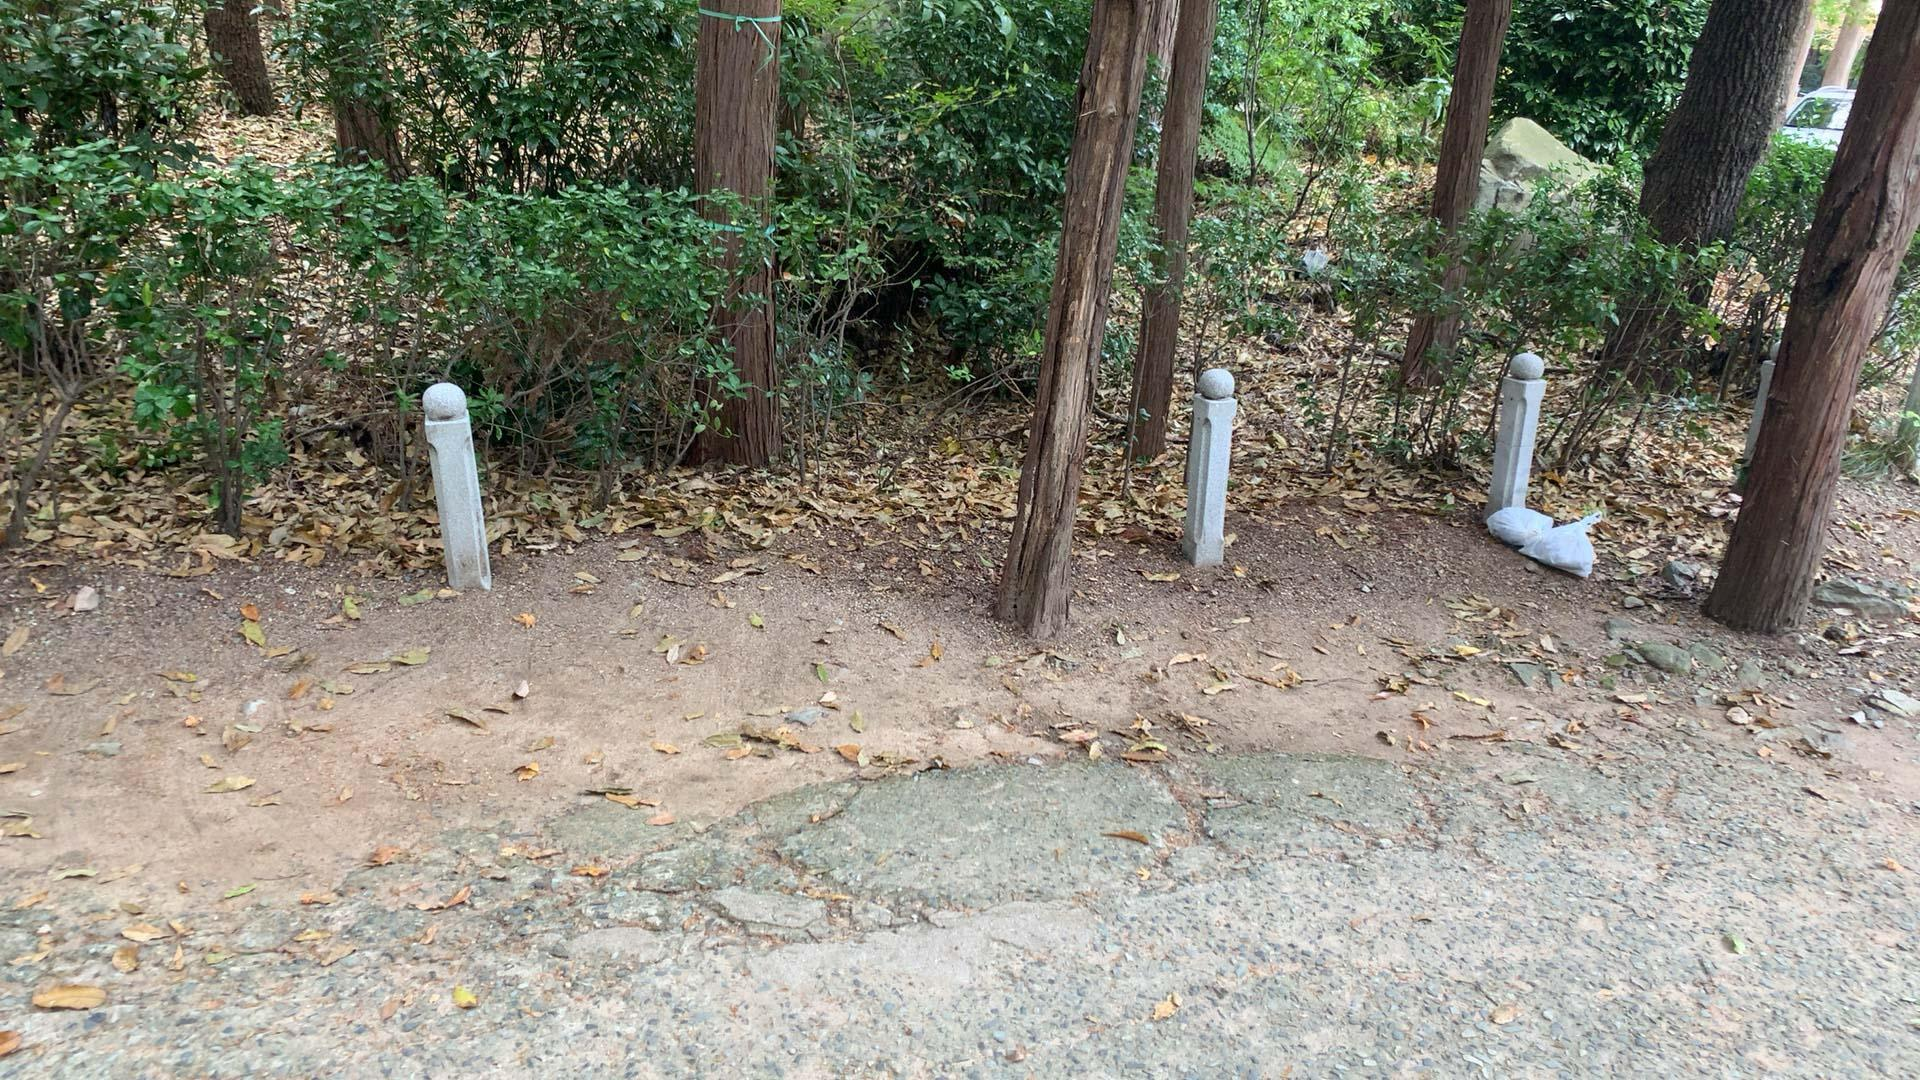white_bag: (1517, 504, 1608, 583), (1482, 502, 1558, 548)
